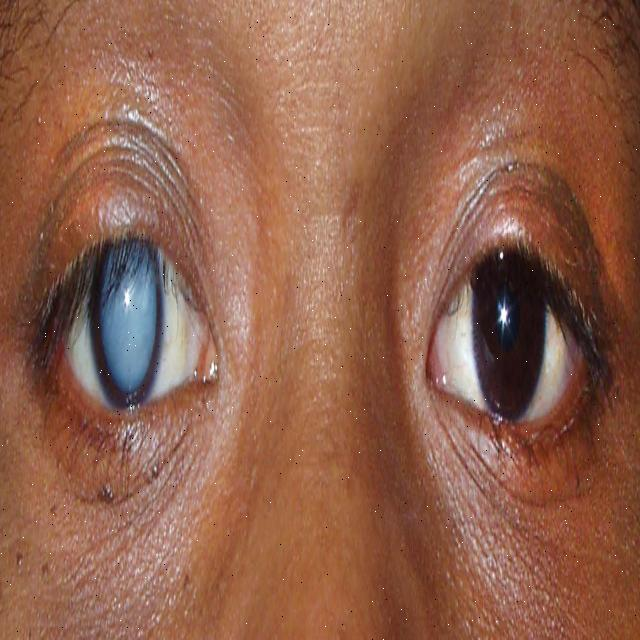Cataract: (91, 192, 163, 420)
Normal: (472, 190, 549, 432)
